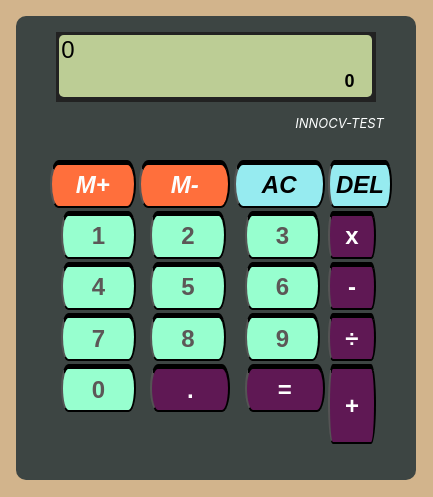
Calculator › should reset the calculator when the AC button is clicked
Click the button "1": (99, 235) [61, 211, 136, 259]
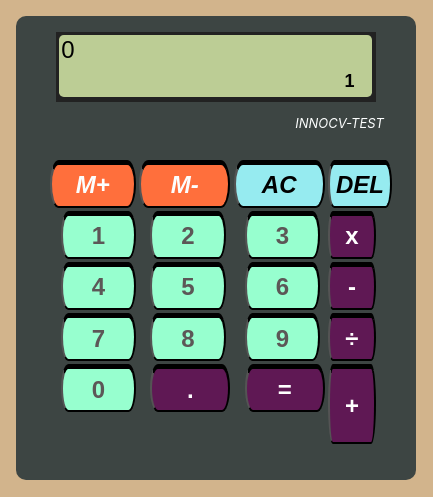
Click the button "AC": (280, 184) [234, 160, 325, 208]
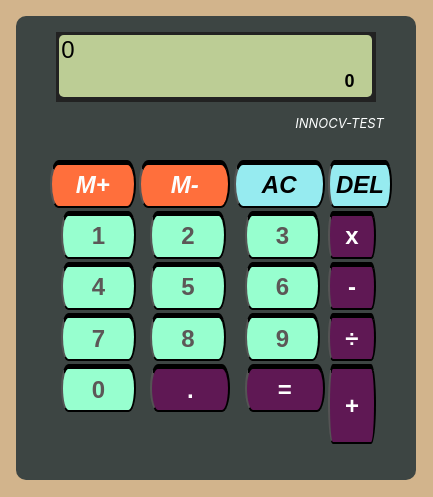
Expected: the number field holds "0", [107, 65, 371, 97]
